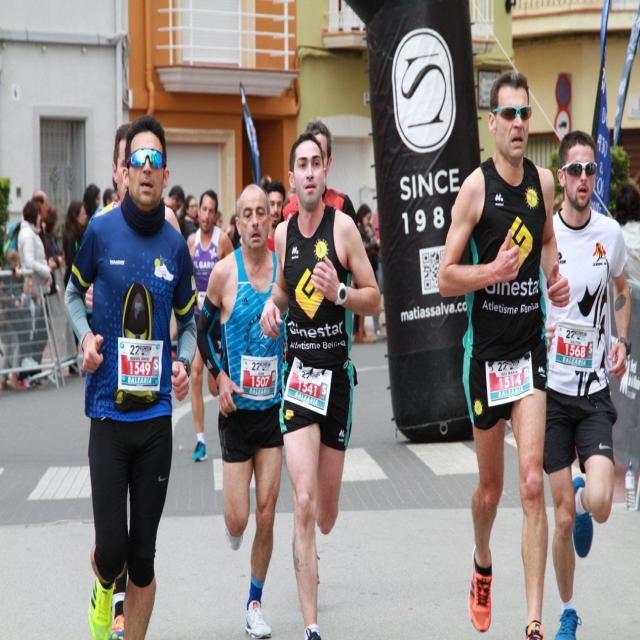Bib: (243, 362, 282, 394), (121, 352, 160, 378), (555, 333, 592, 360), (492, 371, 528, 392), (296, 374, 322, 399)
